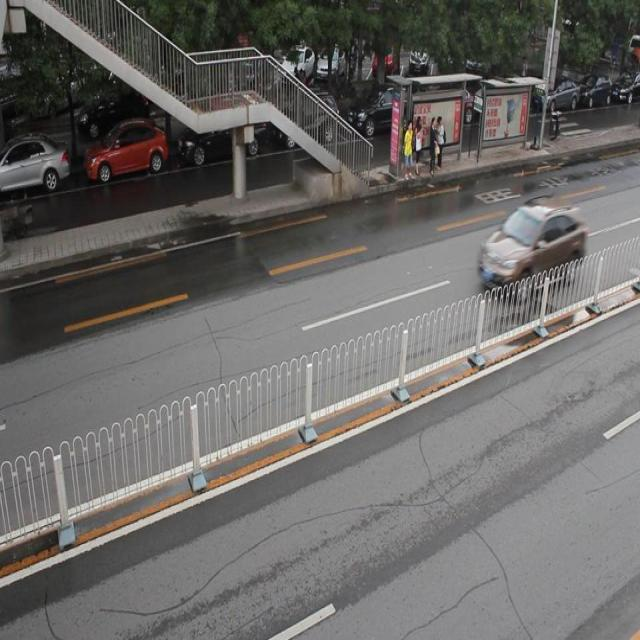car: (476, 200, 584, 294), (84, 122, 165, 183), (180, 106, 265, 161), (347, 79, 415, 138), (1, 137, 70, 195), (276, 94, 341, 148)
